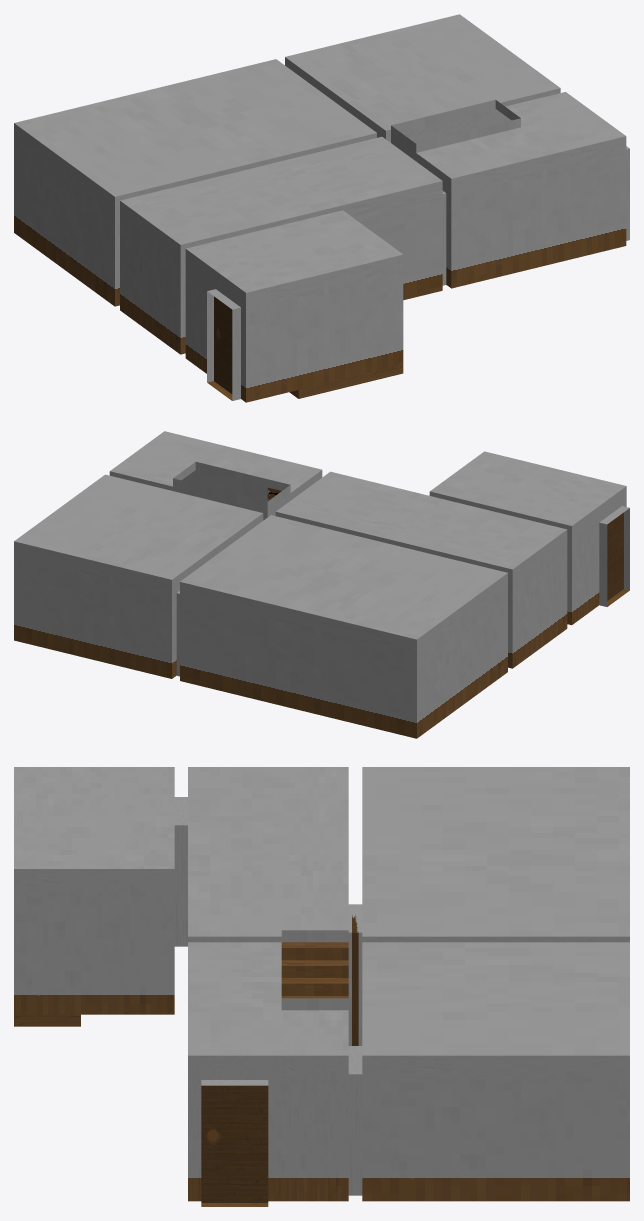
Rendered from house.glb.
The picture shows the model from 3 angles, top to bottom: view 1: azimuth 30°, elevation 25°; view 2: azimuth 150°, elevation 25°; view 3: azimuth 270°, elevation 25°; orthographic projection. The views are drawn at different scales.
Parts seen in each view (by area): view 1: Ceiling, Wall, Back door, Floor; view 2: Wall, Ceiling, Back door; view 3: Ceiling, Wall, Front door, Stairs, Floor, Door.
Boxes of the visible parts, bbox=[...] form: Ceiling: bbox=[14, 14, 625, 292]; Wall: bbox=[14, 57, 629, 402]; Back door: bbox=[214, 296, 232, 393]; Floor: bbox=[207, 364, 403, 400]; Wall: bbox=[14, 470, 629, 738]; Ceiling: bbox=[14, 431, 626, 639]; Back door: bbox=[607, 512, 623, 600]; Ceiling: bbox=[14, 767, 629, 1055]; Wall: bbox=[14, 797, 629, 1201]; Front door: bbox=[201, 1085, 268, 1202]; Stairs: bbox=[281, 942, 348, 998]; Floor: bbox=[14, 1014, 268, 1206]; Door: bbox=[352, 915, 358, 1045].
Bounding box in the file's own units: 10.6 × 2.8 × 9.2.
26 materials, 26 textured.
